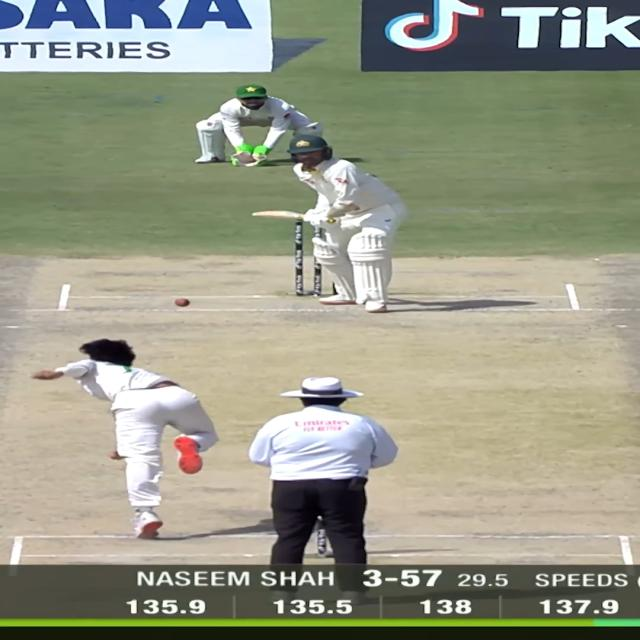Cricket ball: (172, 297, 192, 308)
